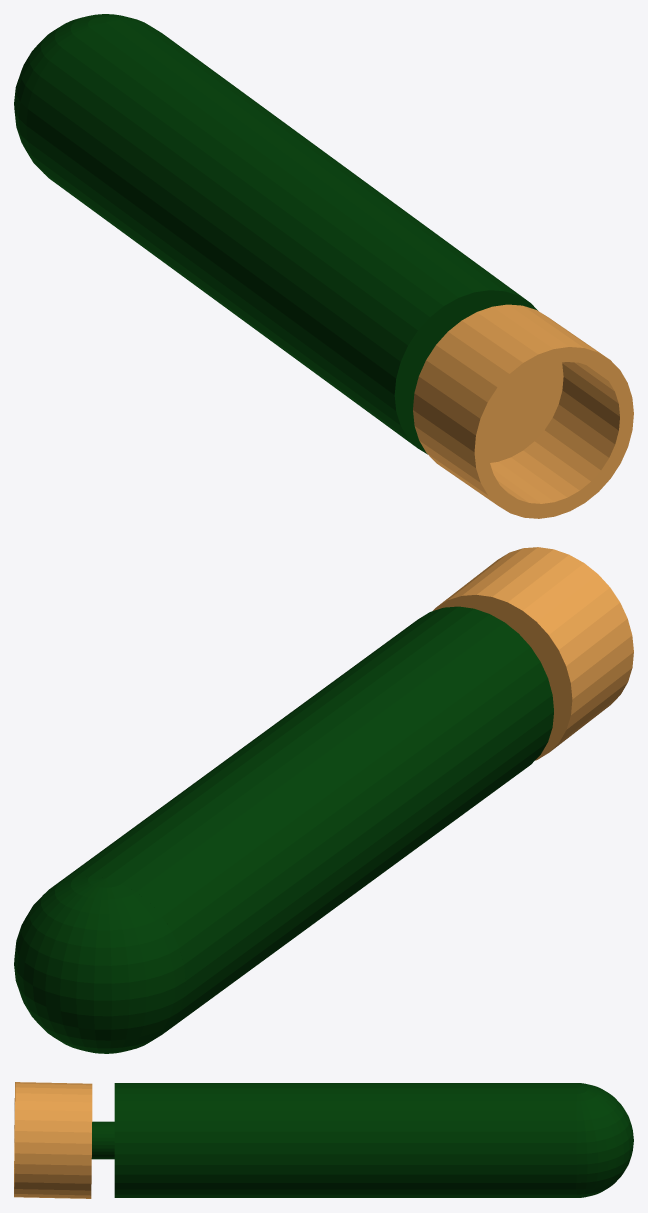
File: AUV.fbx
The picture shows the model from 3 angles, top to bottom: view 1: azimuth 30°, elevation 25°; view 2: azimuth 150°, elevation 25°; view 3: azimuth 270°, elevation 25°; orthographic projection. The views are drawn at different scales.
Parts seen in each view (by area): view 1: Сфера; view 2: Сфера; view 3: Сфера.
Part boxes in pixels (x1,y1,x2,y2): Сфера: [14, 14, 633, 518]; Сфера: [14, 547, 633, 1053]; Сфера: [14, 1082, 633, 1198].
Size of the model in its own units: 200 by 1075 by 203.
